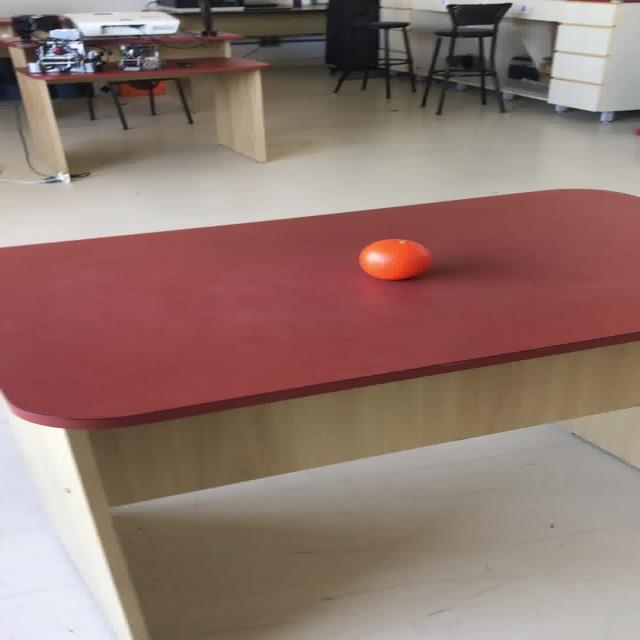orange: (357, 237, 431, 280)
